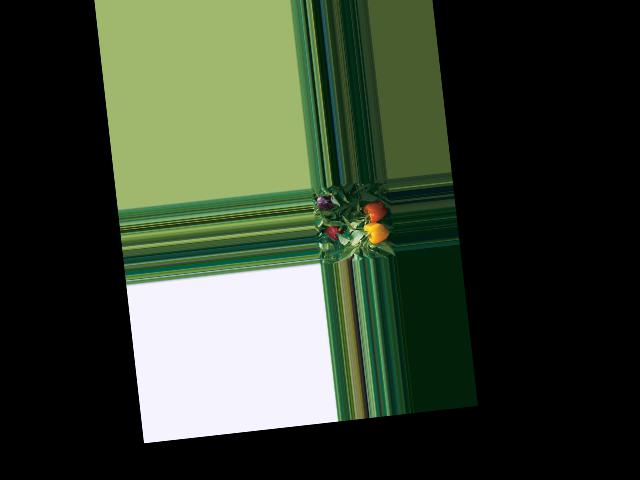bell_pepper: (361, 215, 389, 245)
